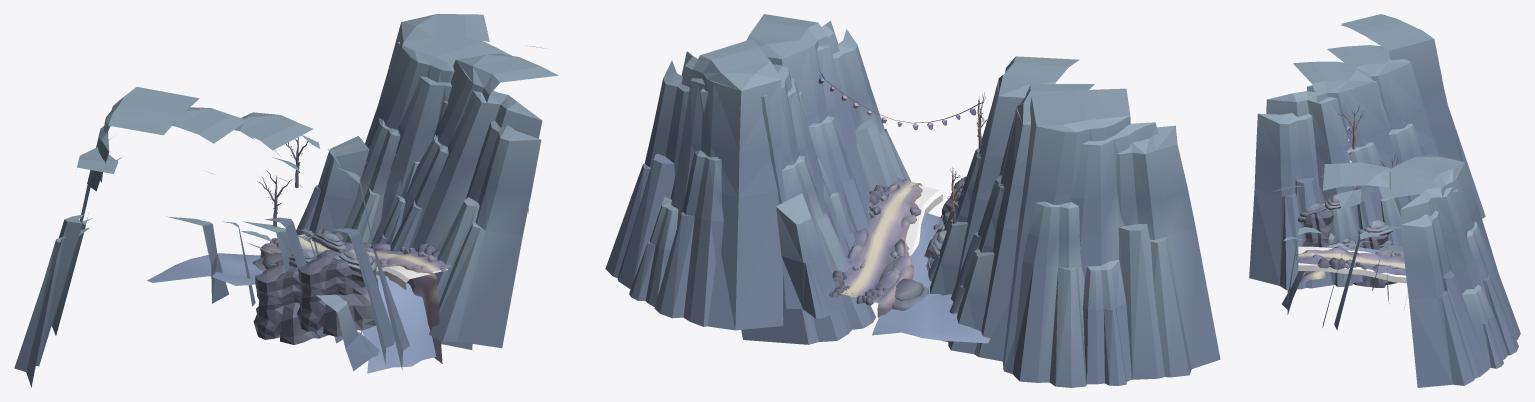
The model's file is Arctic_Narrows_Left_Start_A.glb.
3 views of the same model, side by side, from view 1: azimuth 30°, elevation 25°; view 2: azimuth 150°, elevation 25°; view 3: azimuth 270°, elevation 25° (orthographic). The views are drawn at different scales.
Parts seen in each view (by area): view 1: Arctic_Narrows_Left_IceWall_A02 (1), Arctic_Narrows_Left_IceWall_A01 (2), Arctic_Narrows_Left_Start_A, Arctic_Narrows_Left_IceWall_A01 (3), Arctic_Narrows_Right_IceWall_A01_Right (×3), Arctic_Narrows_Right_IceWall_A01 (3), Arctic_Narrows_Left_IceWall_A01_Left (×2), Arctic_Narrows_Left_IceWall_A02_Left, Arctic_Narrows_Big_Rock_A01_Top (×2), Arctic_Narrows_Right_IceWall_A01 (4), Arctic_Narrows_Right_IceWall_A01 (5), Arctic_Narrows_Big_Rock_A01_Mid (×2) (+5 smaller); view 2: Arctic_Narrows_Left_IceWall_A01 (3), Arctic_Narrows_Right_IceWall_A01 (5), Arctic_Narrows_Left_IceWall_A01_Left (×2), Arctic_Narrows_Right_IceWall_A01_Mid (×3), Arctic_Narrows_Left_IceWall_A02 (1), Arctic_Narrows_Left_Start_A, Arctic_Narrows_Right_IceWall_A01_Right (×3), Arctic_Narrows_Right_IceWall_A01 (4), Arctic_Narrows_Left_IceWall_A01_Mid (×2), Arctic_Narrows_Left_IceWall_A01 (2), Arctic_Narrows_Right_IceWall_A01 (3), Arctic_Narrows_Left_IceWall_A02_Left (+2 smaller); view 3: Arctic_Narrows_Right_IceWall_A01 (3), Arctic_Narrows_Right_IceWall_A01 (5), Arctic_Narrows_Right_IceWall_A01_Mid (×3), Arctic_Narrows_Left_IceWall_A01 (3), Arctic_Narrows_Right_IceWall_A01 (4), Arctic_Narrows_Left_Start_A, Arctic_Narrows_Left_IceWall_A01 (2), Arctic_Narrows_Left_IceWall_A02 (1), inv_fill, Arctic_Narrows_Big_Rock_A01_Top (×2), Arctic_Narrows_Right_IceWall_A01_Right, Arctic_Narrows_Big_Rock_A01_Mid (+3 smaller).
Boxes of the visible parts, x1,y1,x2,y2 form: Arctic_Narrows_Left_IceWall_A02 (1): (412,53,558,348); Arctic_Narrows_Left_IceWall_A01 (2): (365,37,511,349); Arctic_Narrows_Left_Start_A: (147,234,452,373); Arctic_Narrows_Left_IceWall_A01 (3): (14,87,199,387); Arctic_Narrows_Right_IceWall_A01_Right (×3): (167,136,369,303); Arctic_Narrows_Right_IceWall_A01 (3): (234,112,409,370); Arctic_Narrows_Left_IceWall_A01_Left (×2): (51,118,400,335); Arctic_Narrows_Left_IceWall_A02_Left: (371,134,448,251); Arctic_Narrows_Big_Rock_A01_Top (×2): (255,249,375,297); Arctic_Narrows_Right_IceWall_A01 (4): (172,107,323,335); Arctic_Narrows_Right_IceWall_A01 (5): (376,14,547,213); Arctic_Narrows_Big_Rock_A01_Mid (×2): (256,274,378,319); Arctic_Narrows_Left_IceWall_A01 (3): (1003,88,1220,379); Arctic_Narrows_Right_IceWall_A01 (5): (605,39,783,330); Arctic_Narrows_Left_IceWall_A01_Left (×2): (782,155,1086,387); Arctic_Narrows_Right_IceWall_A01_Mid (×3): (629,148,1004,326); Arctic_Narrows_Left_IceWall_A02 (1): (746,14,910,210); Arctic_Narrows_Left_Start_A: (833,177,990,343); Arctic_Narrows_Right_IceWall_A01_Right (×3): (776,193,994,354); Arctic_Narrows_Right_IceWall_A01 (4): (974,84,1094,361); Arctic_Narrows_Left_IceWall_A01_Mid (×2): (818,159,1131,385); Arctic_Narrows_Left_IceWall_A01 (2): (700,64,831,344); Arctic_Narrows_Right_IceWall_A01 (3): (955,56,1079,284); Arctic_Narrows_Left_IceWall_A02_Left: (808,116,870,256); Arctic_Narrows_Right_IceWall_A01 (3): (1249,61,1408,290); Arctic_Narrows_Right_IceWall_A01 (5): (1386,154,1497,387); Arctic_Narrows_Right_IceWall_A01_Mid (×3): (1322,123,1520,368); Arctic_Narrows_Left_IceWall_A01 (3): (1340,14,1460,160); Arctic_Narrows_Right_IceWall_A01 (4): (1307,45,1438,155); Arctic_Narrows_Left_Start_A: (1282,242,1405,314); Arctic_Narrows_Left_IceWall_A01 (2): (1322,172,1457,330); Arctic_Narrows_Left_IceWall_A02 (1): (1271,162,1401,306); inv_fill: (1298,246,1406,283); Arctic_Narrows_Big_Rock_A01_Top (×2): (1304,210,1388,249); Arctic_Narrows_Right_IceWall_A01_Right: (1380,197,1402,247); Arctic_Narrows_Big_Rock_A01_Mid: (1302,222,1332,247).
Size of the model in its own units: 47.79 by 21.28 by 24.89.
